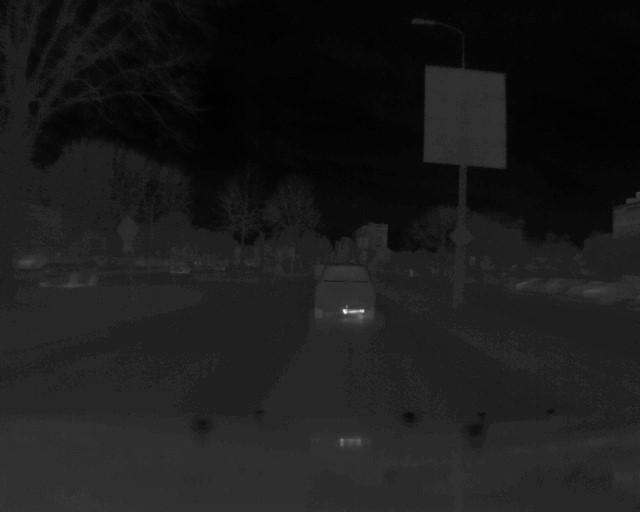car: (311, 258, 378, 325), (33, 250, 101, 287), (169, 257, 198, 276)
